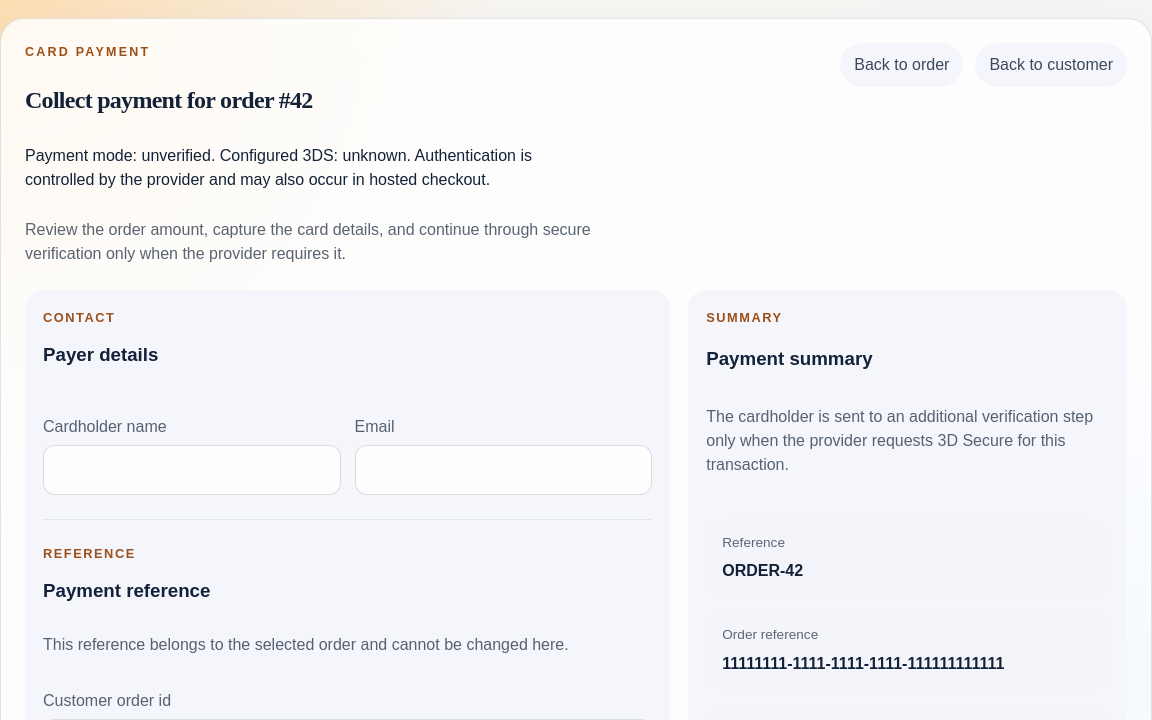
Test case: PaymentPage › routes a non-3DS payment into the shared status summary page
In the field labelled "Cardholder name": (192, 470) [43,445,341,495], type "Alice Smith"
In the field labelled "Email": (503, 470) [355,445,652,495], type "alice@example.com"
(page scrolled)
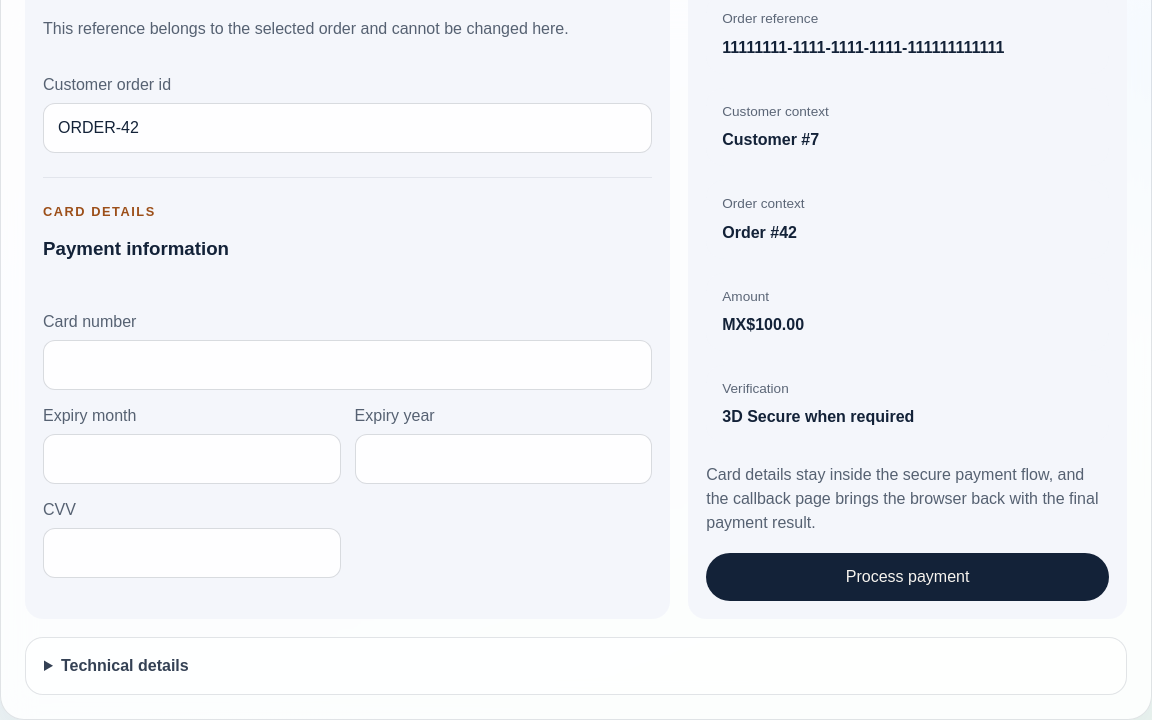
In the field labelled "Card number": (348, 364) [43,340,652,390], type "4111111111111111"
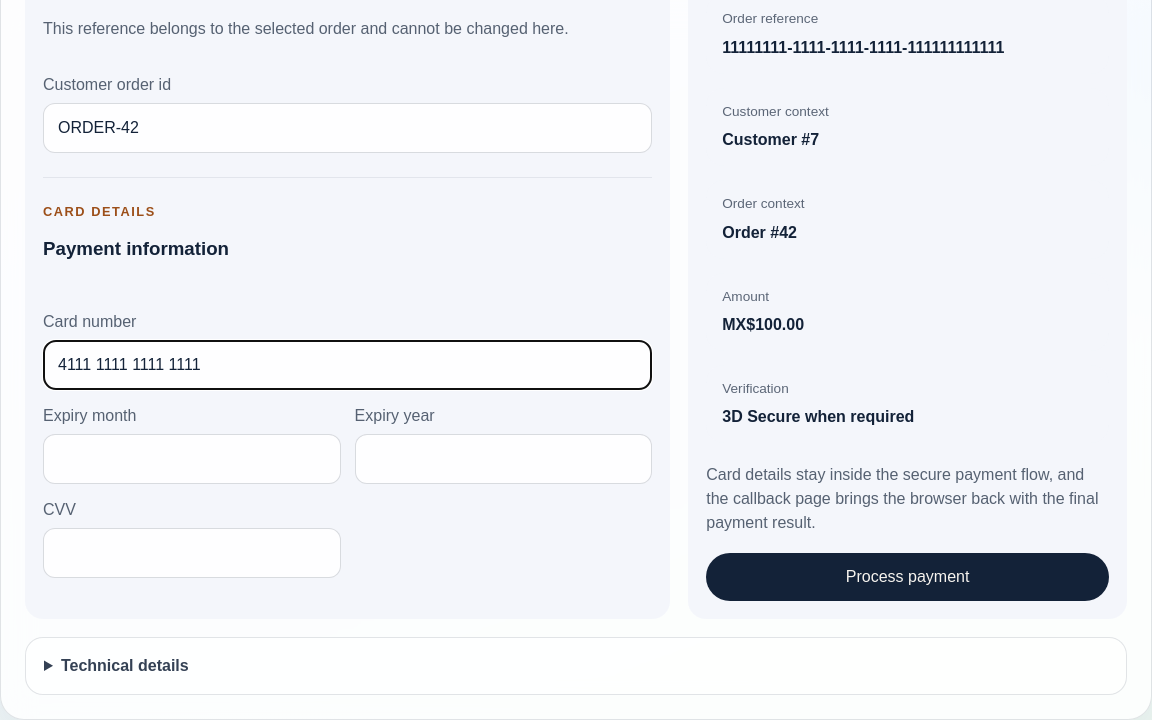
In the field labelled "Expiry month": (192, 458) [43,434,341,484], type "12"
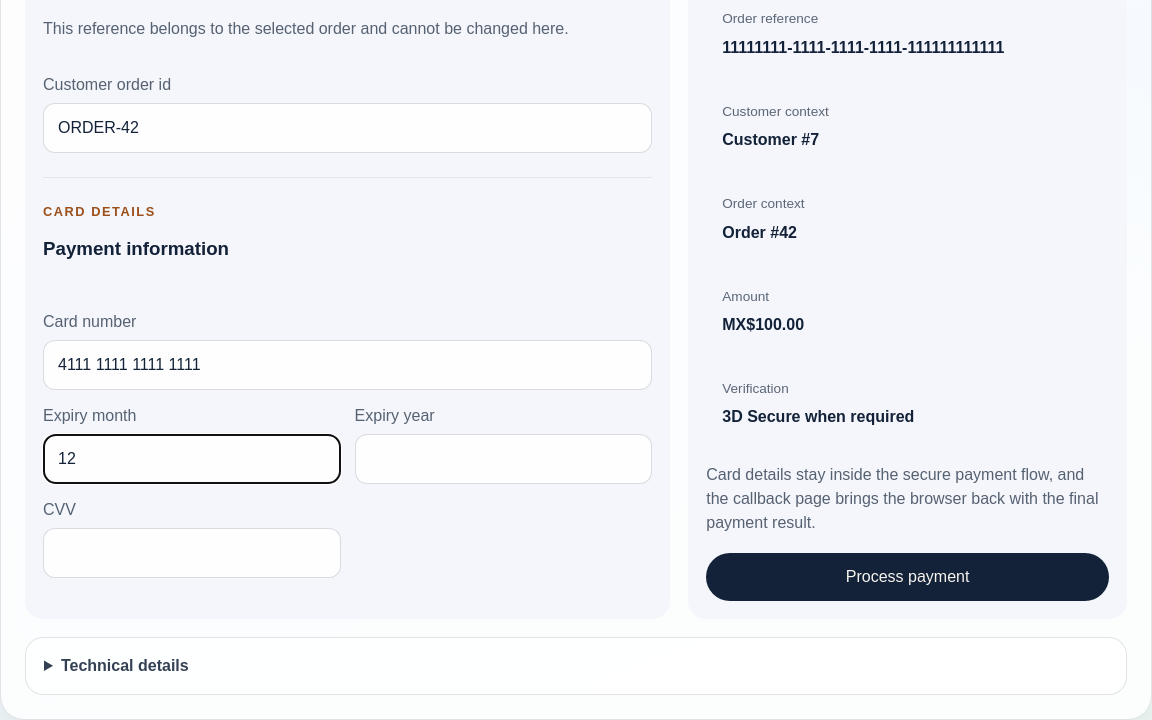
In the field labelled "Expiry year": (503, 458) [355,434,652,484], type "26"
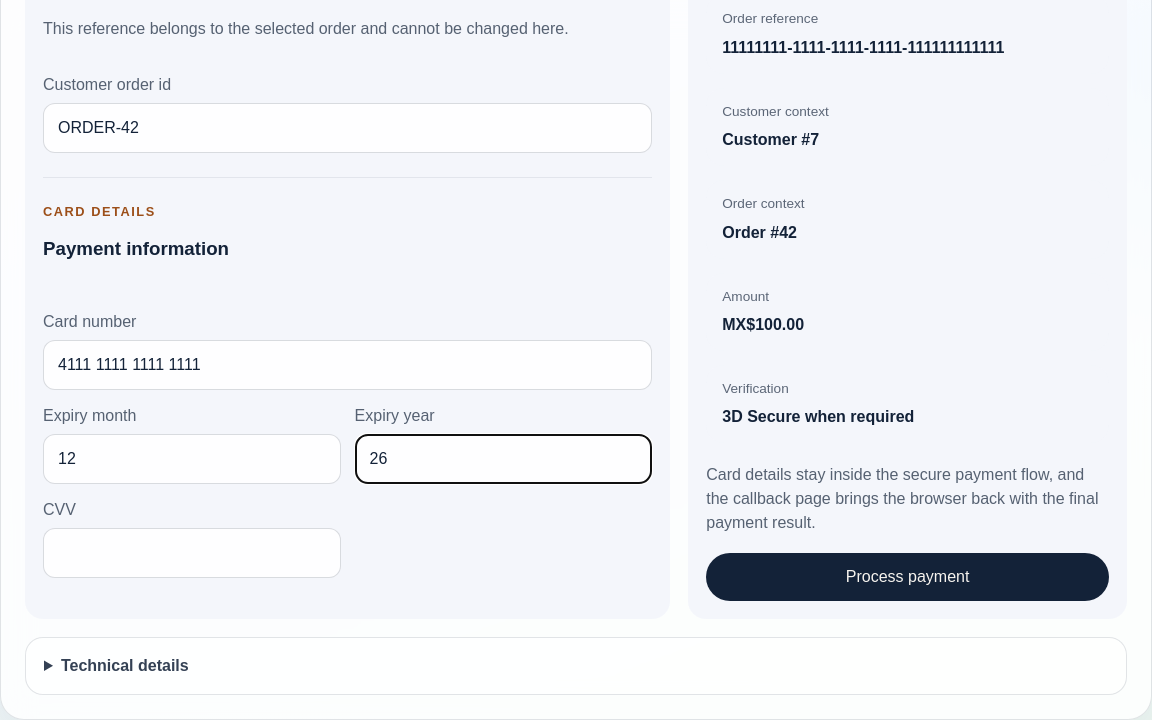
In the field labelled "CVV": (192, 552) [43,528,341,578], type "123"
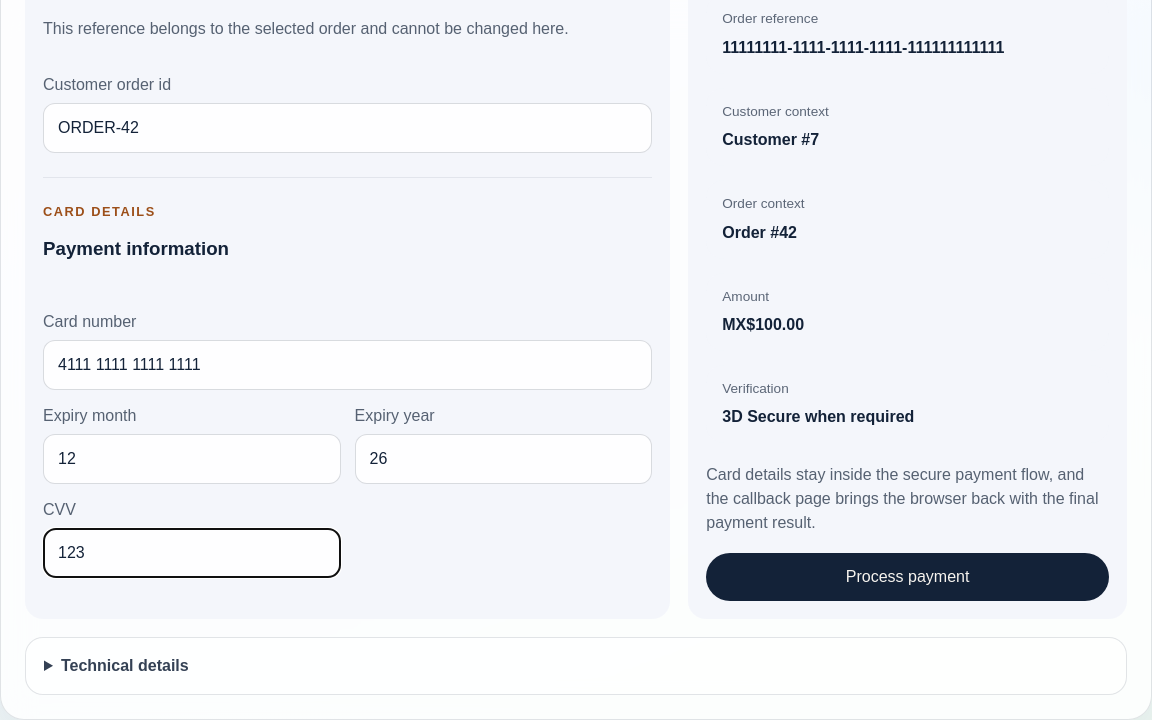
Click the button "Process payment": (908, 577) [706,553,1109,601]
(page scrolled)
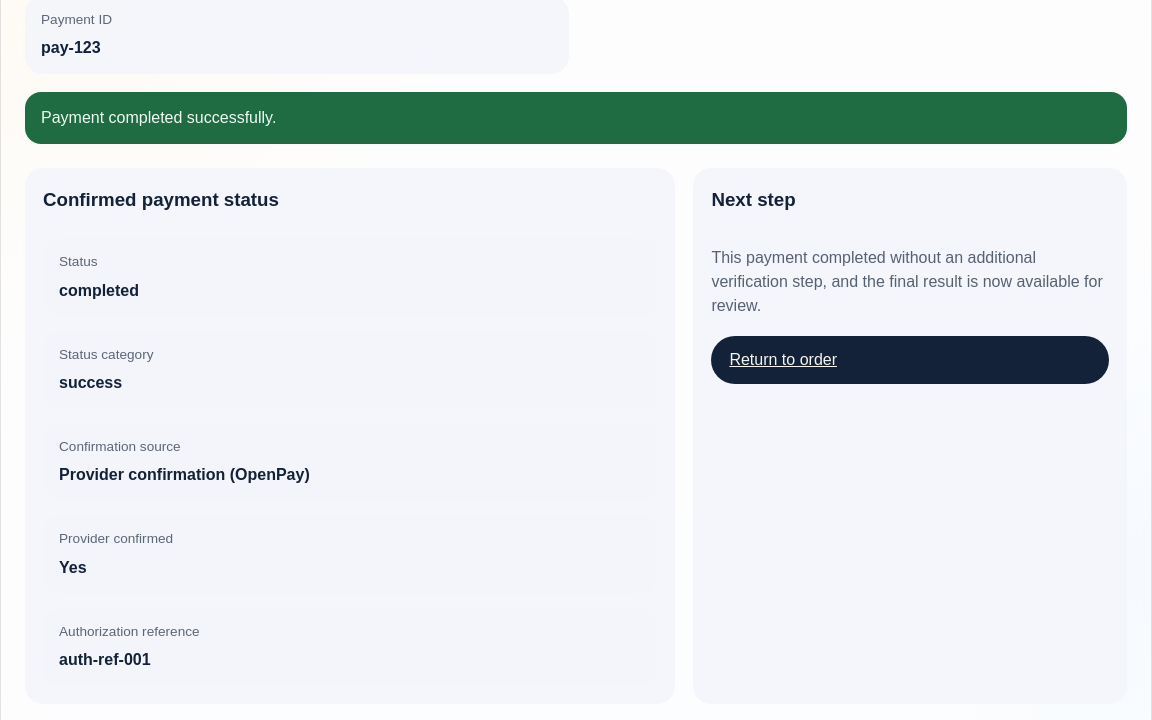
Check: the heading "Confirmed payment status" is shown, box [43,189,279,210]
Check: the text "Payment completed successfully." is shown, box [25,92,1127,144]
Check: the text "Provider confirmation (OpenPay)" is shown, box [59,466,310,483]
